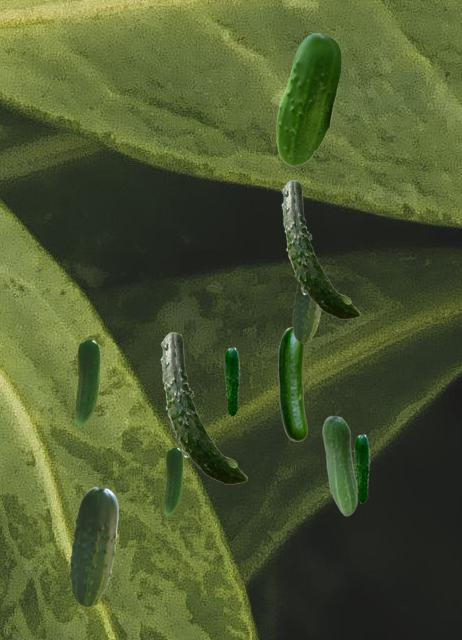cucumber: (160, 332, 246, 483), (281, 180, 359, 318), (276, 33, 340, 165), (69, 487, 117, 606), (322, 415, 357, 515), (278, 327, 306, 440), (75, 339, 99, 426), (292, 282, 321, 342), (164, 447, 182, 515), (224, 347, 239, 415), (354, 434, 369, 502)
